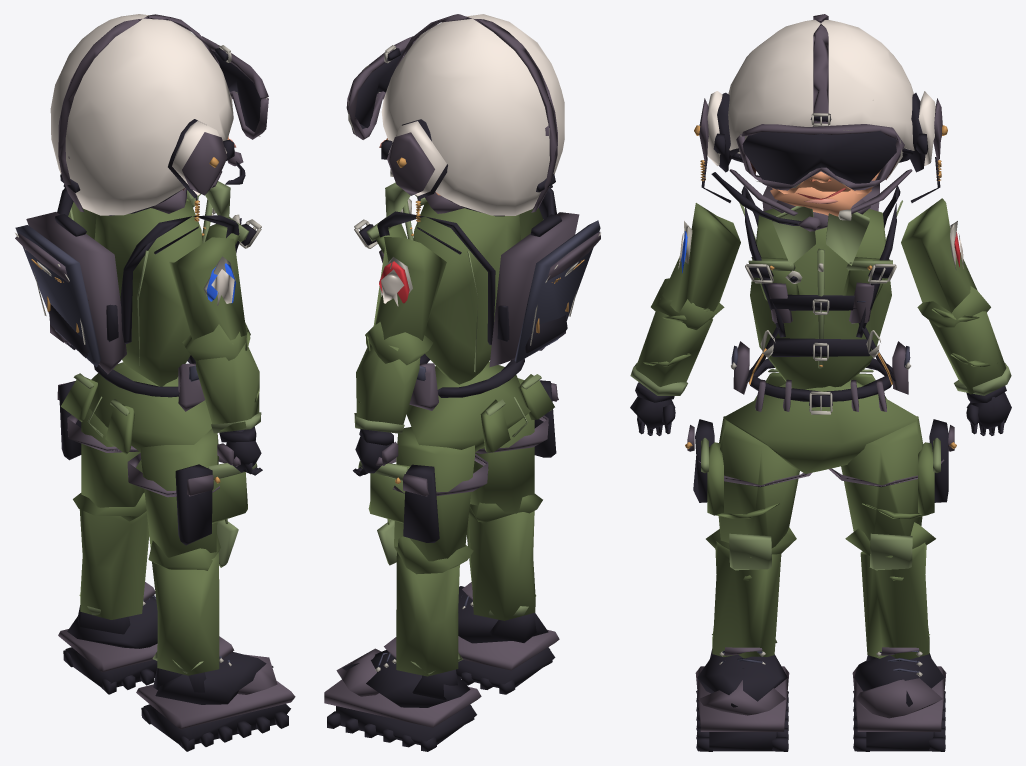
The model's file is npc.helicopter-pilot.lod1.glb.
3 renders of one model, left to right at view 1: azimuth 30°, elevation 25°; view 2: azimuth 150°, elevation 25°; view 3: azimuth 270°, elevation 25°, orthographic.
Parts seen in each view (by area): view 1: head, torso, footR, legR, hip, shinR, shinL, footL, armR, foreArmR, legL, handR (+1 smaller); view 2: head, torso, footL, legL, hip, shinL, shinR, footR, foreArmL, armL, legR, handL; view 3: head, torso, hip, legL, legR, footR, footL, shinL, shinR, foreArmL, foreArmR, armR (+3 smaller).
Boxes of the visible parts, <box> form: head: <box>50,14,268,254</box>; torso: <box>15,181,261,386</box>; footR: <box>136,636,295,751</box>; legR: <box>127,428,257,557</box>; hip: <box>61,355,211,454</box>; shinR: <box>148,520,238,675</box>; shinL: <box>73,492,149,619</box>; footL: <box>58,582,157,694</box>; armR: <box>169,237,246,340</box>; foreArmR: <box>182,322,261,433</box>; legL: <box>57,381,144,507</box>; handR: <box>217,426,262,475</box>; head: <box>346,14,564,254</box>; torso: <box>354,182,600,384</box>; footL: <box>324,637,481,751</box>; legL: <box>358,427,488,561</box>; hip: <box>406,354,554,452</box>; shinL: <box>377,520,473,676</box>; shinR: <box>466,494,542,620</box>; footR: <box>456,582,559,694</box>; foreArmL: <box>354,322,433,433</box>; armL: <box>373,237,446,340</box>; legR: <box>470,378,558,513</box>; handL: <box>353,429,398,476</box>; head: <box>694,14,947,231</box>; torso: <box>739,183,902,389</box>; hip: <box>723,341,918,473</box>; legL: <box>829,416,956,541</box>; legR: <box>685,416,811,548</box>; footR: <box>695,647,789,751</box>; footL: <box>852,647,946,751</box>; shinL: <box>845,522,935,659</box>; shinR: <box>706,527,796,658</box>; foreArmL: <box>917,286,1011,395</box>; foreArmR: <box>630,278,724,395</box>; armR: <box>662,203,740,319</box>.
Bounding box in the file's own units: 0.538 × 1.73 × 0.8677.
